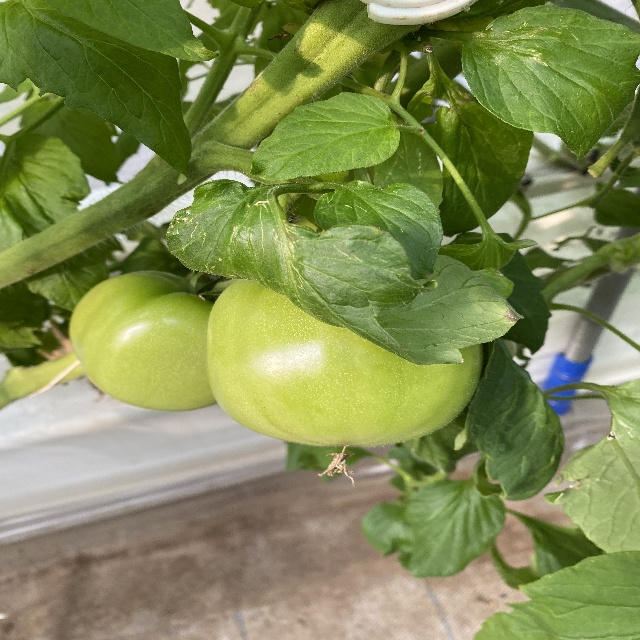b_green: (205, 278, 485, 448), (69, 271, 223, 412)
